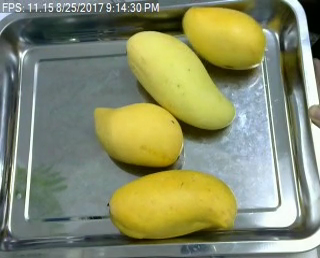Mango: (123, 28, 237, 129), (110, 169, 237, 238), (94, 98, 189, 169), (181, 3, 263, 68)
